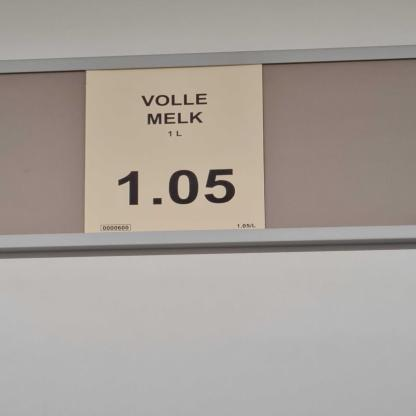prtg: (85, 65, 268, 235)
